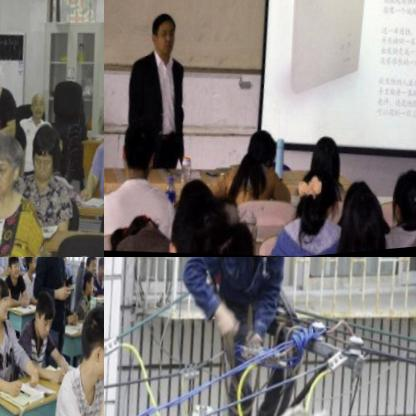head: (109, 109, 158, 183), (159, 197, 215, 257), (330, 178, 377, 249), (67, 305, 104, 388), (285, 166, 334, 228), (21, 120, 63, 191), (234, 122, 278, 176), (379, 167, 416, 231), (104, 201, 154, 244), (299, 130, 339, 183), (23, 291, 54, 351), (0, 131, 25, 202), (141, 9, 173, 58), (72, 270, 94, 304), (22, 90, 44, 121), (95, 95, 104, 153), (2, 258, 20, 286), (94, 275, 104, 322), (89, 257, 104, 286), (0, 280, 9, 326), (81, 258, 95, 282), (20, 257, 35, 277), (16, 257, 29, 265), (6, 257, 16, 265)
